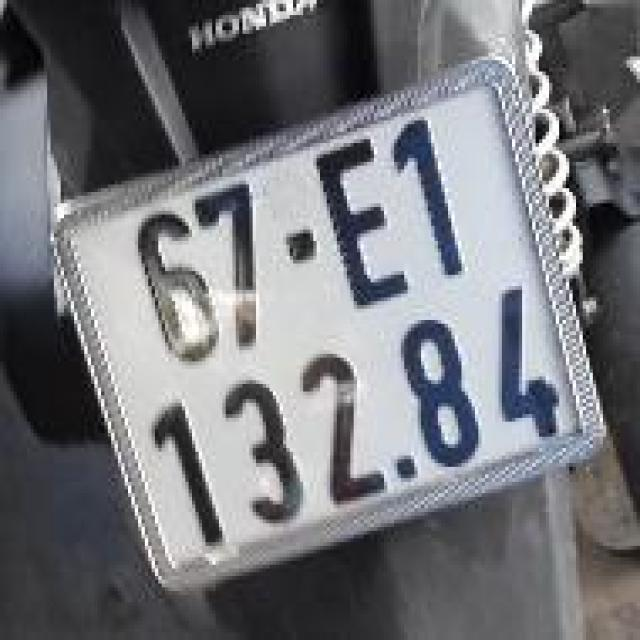1: (376, 95, 485, 285), (132, 378, 243, 559)
2: (287, 333, 398, 515)
3: (207, 364, 316, 532)
4: (472, 267, 574, 461)
6: (127, 192, 231, 376)
7: (182, 165, 284, 362)
8: (385, 303, 494, 477)
E: (302, 127, 427, 332)
